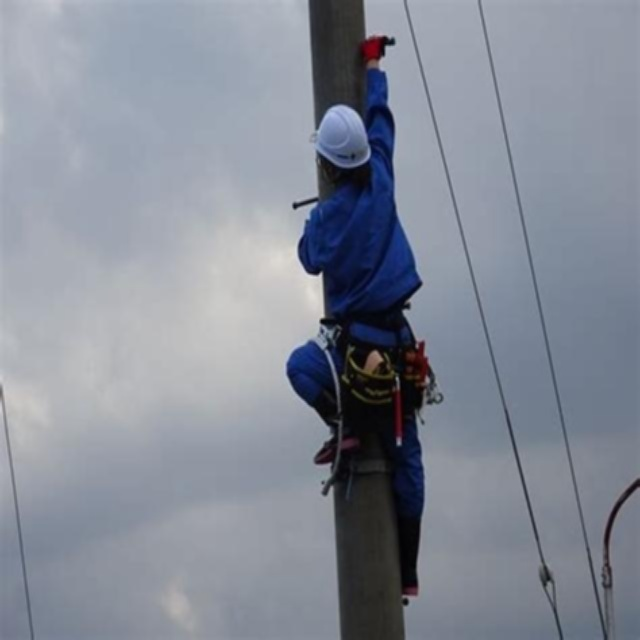Con_Casco: (317, 104, 370, 176)
